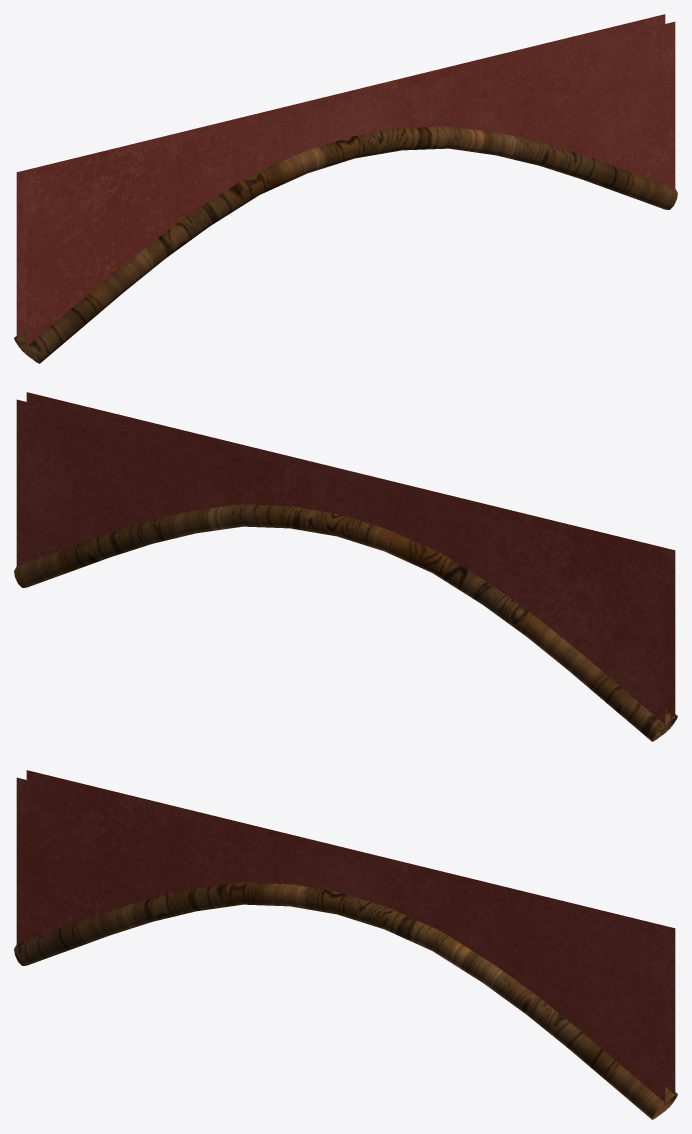
File: OpenDoor_01.fbx
The picture shows the model from 3 angles, top to bottom: view 1: azimuth 30°, elevation 25°; view 2: azimuth 150°, elevation 25°; view 3: azimuth 330°, elevation 25°; orthographic projection.
Parts seen in each view (by area): view 1: OpenDoor_01; view 2: OpenDoor_01; view 3: OpenDoor_01.
Part boxes in pixels (x1,y1,x2,y2): OpenDoor_01: (14, 14, 677, 363); OpenDoor_01: (14, 392, 677, 741); OpenDoor_01: (14, 770, 677, 1119).
Bounding box in the file's own units: 381 × 104 × 20.9.
Materials: 1 (1 with a texture image).
